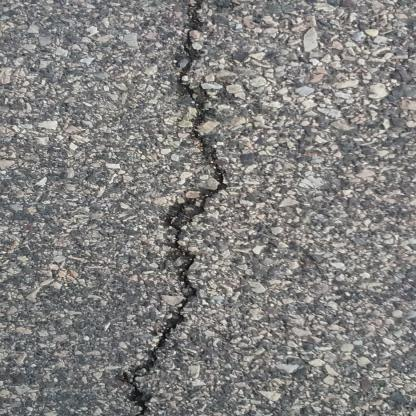Cracks: (121, 0, 230, 416)
